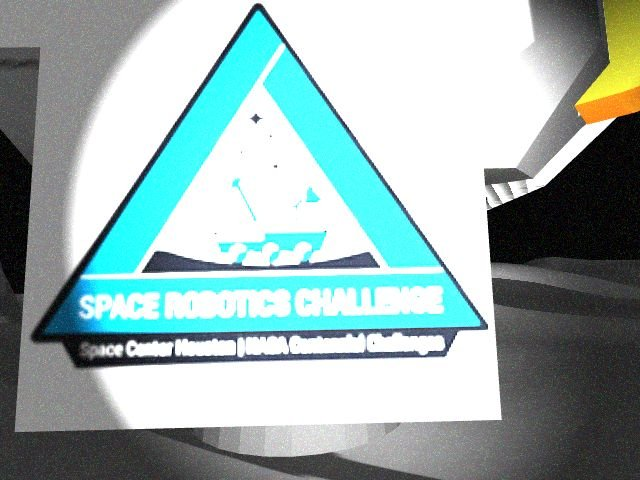basemarker: (29, 3, 491, 371)
